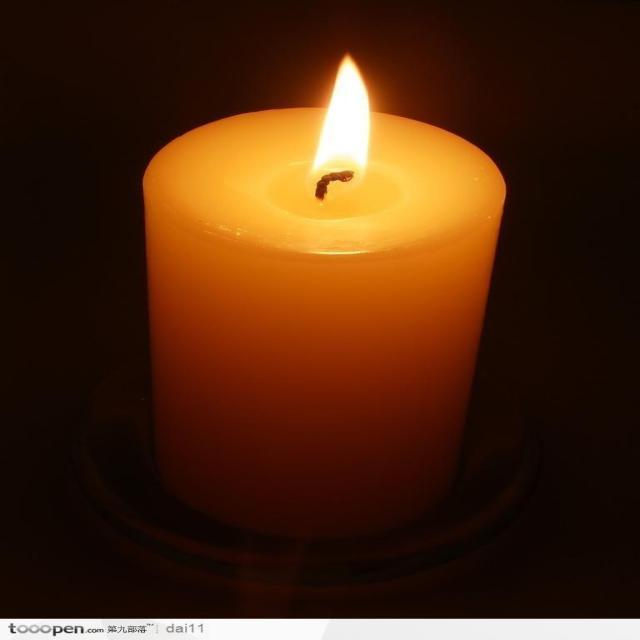Fire: (308, 52, 372, 179)
